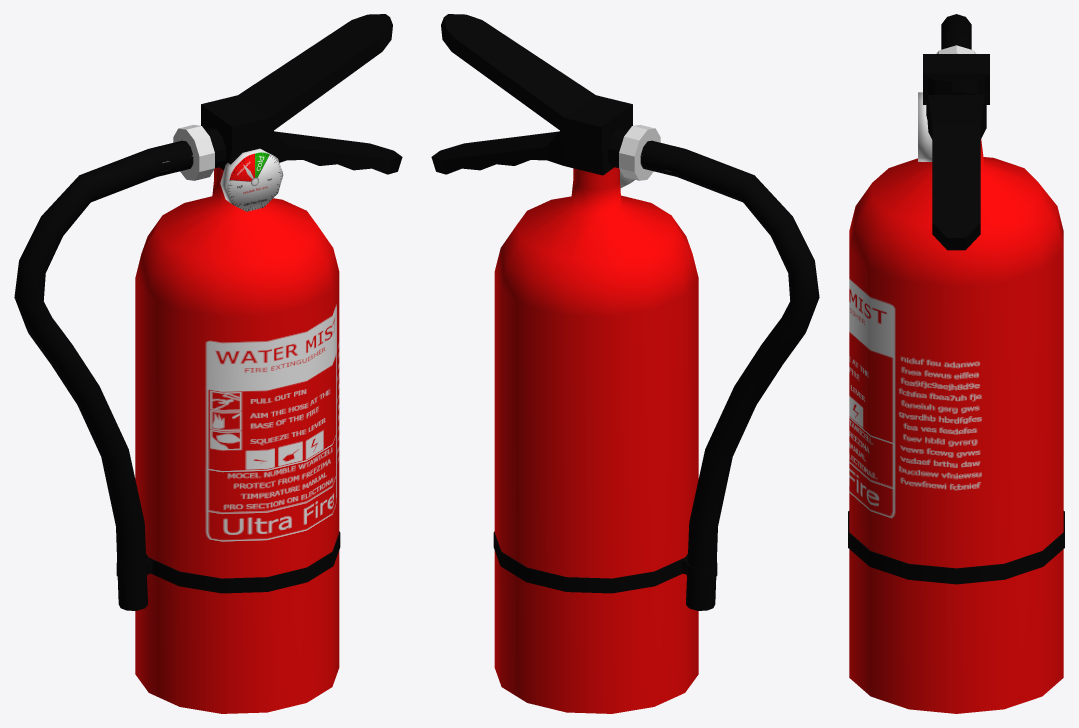
File: fire_extinguisher1.2.fbx
The picture shows the model from 3 angles, left to right: view 1: azimuth 30°, elevation 25°; view 2: azimuth 150°, elevation 25°; view 3: azimuth 270°, elevation 25°; orthographic projection. The views are drawn at different scales.
Visible parts, largest first — view 1: fire_extinguisher_low; view 2: fire_extinguisher_low; view 3: fire_extinguisher_low.
Boxes of the visible parts, x1,y1,x2,y2 form: fire_extinguisher_low: [14, 14, 402, 713]; fire_extinguisher_low: [431, 14, 819, 713]; fire_extinguisher_low: [848, 14, 1064, 713].
Size of the model in its own units: 43.16 by 66.84 by 19.73.
1 material, 1 textured.
